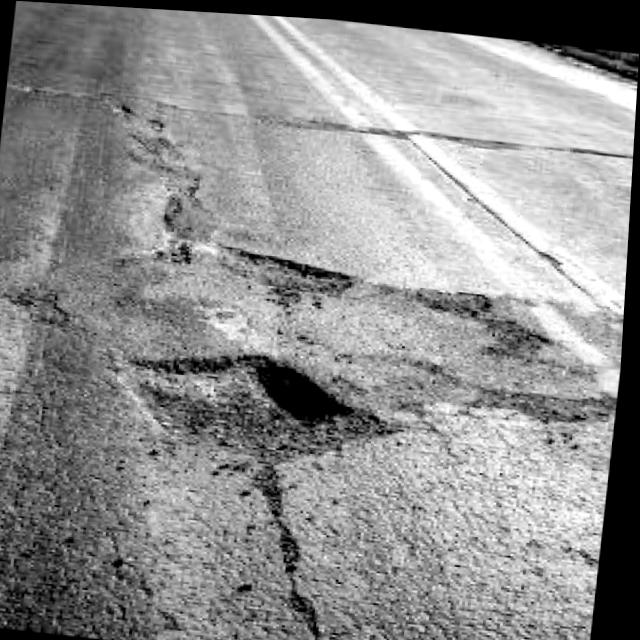pathole: (6, 174, 625, 521)
